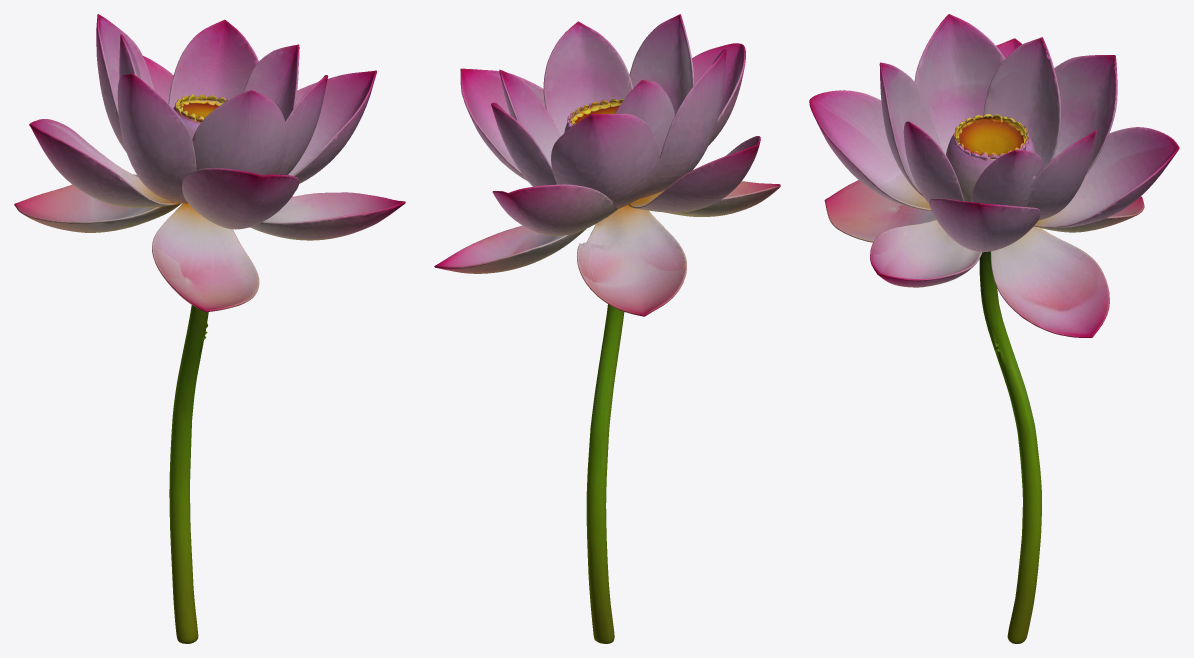
Rendered from lotus.glb.
3 views of the same model, side by side, from view 1: azimuth 30°, elevation 25°; view 2: azimuth 150°, elevation 25°; view 3: azimuth 270°, elevation 25° (orthographic). The views are drawn at different scales.
Parts seen in each view (by area): view 1: tripo_node_299274bf-224a-4589-bfe0-db08274f904e; view 2: tripo_node_299274bf-224a-4589-bfe0-db08274f904e; view 3: tripo_node_299274bf-224a-4589-bfe0-db08274f904e.
Boxes of the visible parts, x1,y1,x2,y2 form: tripo_node_299274bf-224a-4589-bfe0-db08274f904e: [14, 14, 405, 643]; tripo_node_299274bf-224a-4589-bfe0-db08274f904e: [434, 14, 780, 643]; tripo_node_299274bf-224a-4589-bfe0-db08274f904e: [809, 14, 1179, 643].
Size of the model in its own units: 0.5486 by 0.9807 by 0.5619.
Materials: 1 (1 with a texture image).
